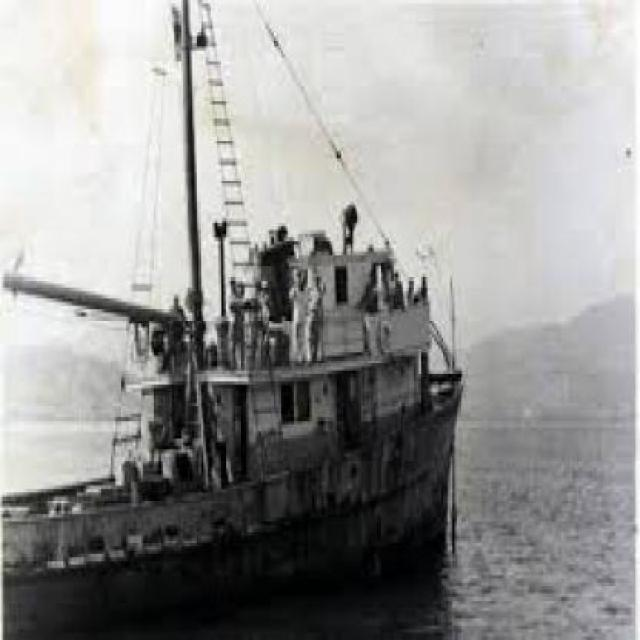fish-b: (1, 1, 490, 609)
